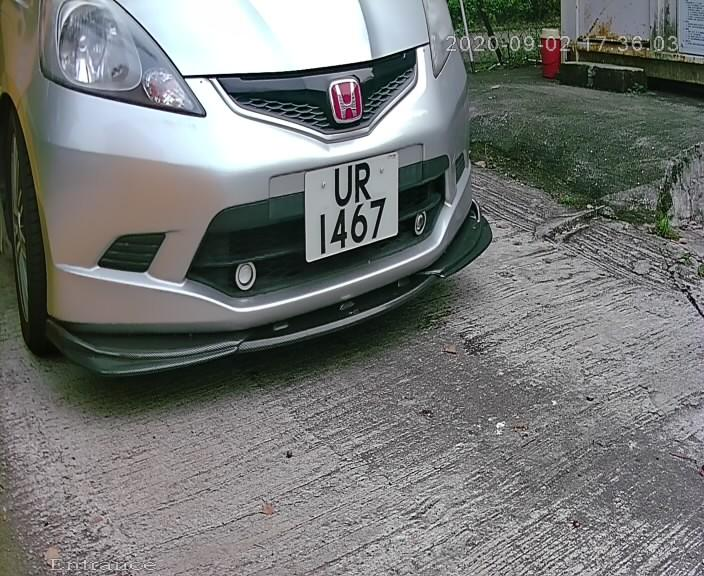Car: (4, 6, 529, 404)
License Plate: (296, 142, 412, 273)
